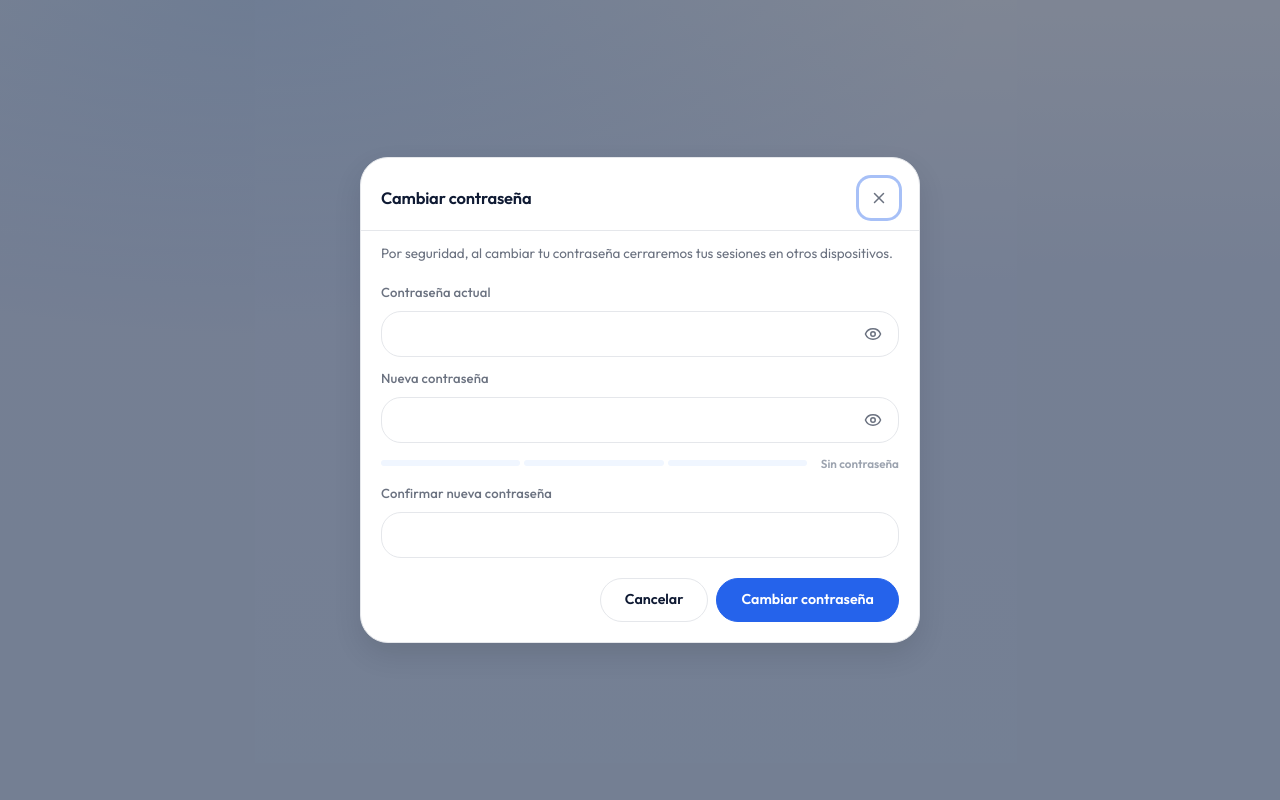
Scenario: CambiarPasswordModal › muestra errores de validación inline si las contraseñas son inválidas
Click the button "Cambiar contraseña": x=808, y=600 [716,578,899,622]
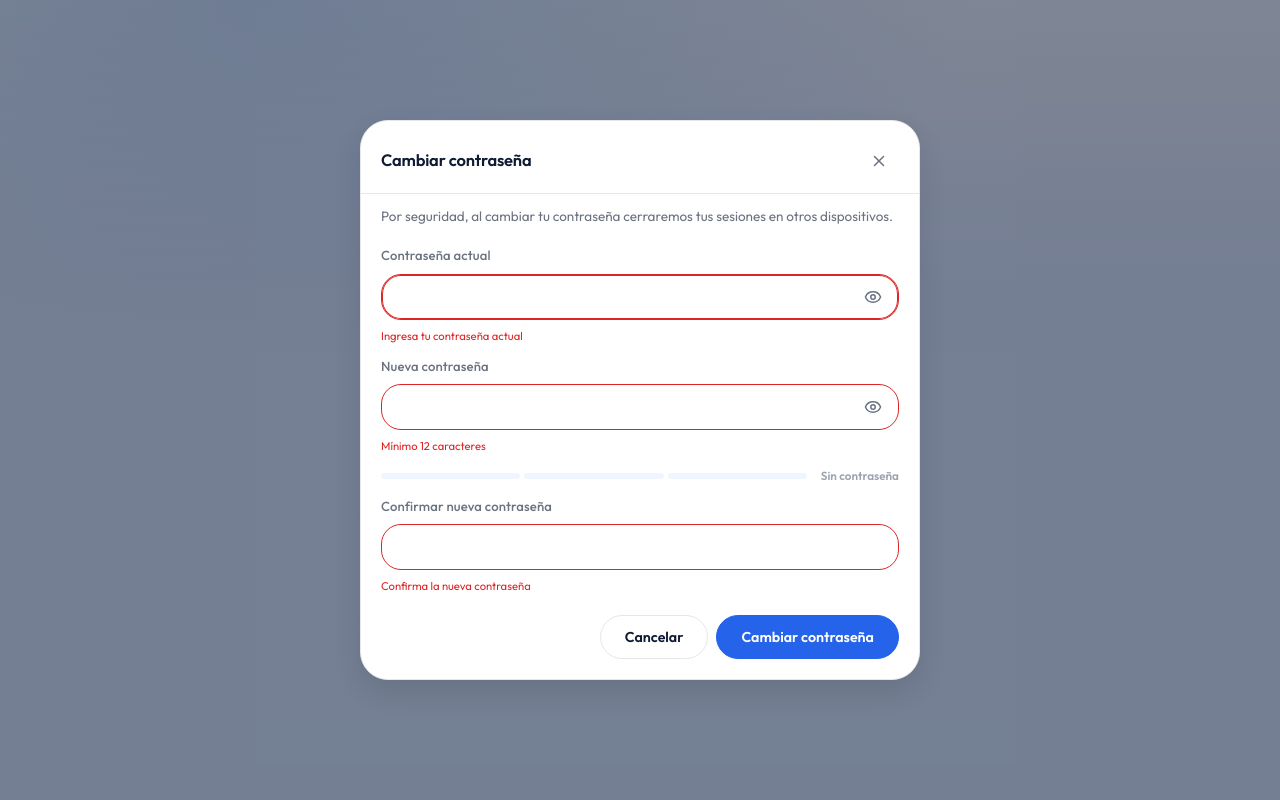
Expected: the text "Ingresa tu contraseña actual" is shown, [381,329,523,343]
Expected: the text "Mínimo 12 caracteres" is shown, [381,439,486,453]
Expected: the text "Confirma la nueva contraseña" is shown, [381,579,531,593]
